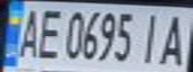0: (60, 7, 87, 61)
5: (115, 8, 142, 63)
6: (78, 7, 100, 61)
9: (96, 8, 121, 62)
A: (154, 10, 193, 67), (12, 4, 45, 60)
E: (33, 6, 66, 61)
I: (136, 9, 166, 65)
